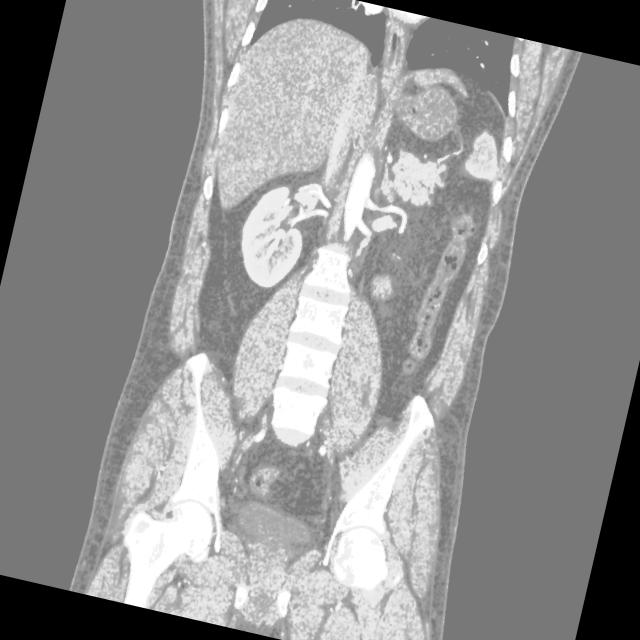NORMAL: (34, 0, 637, 640)
